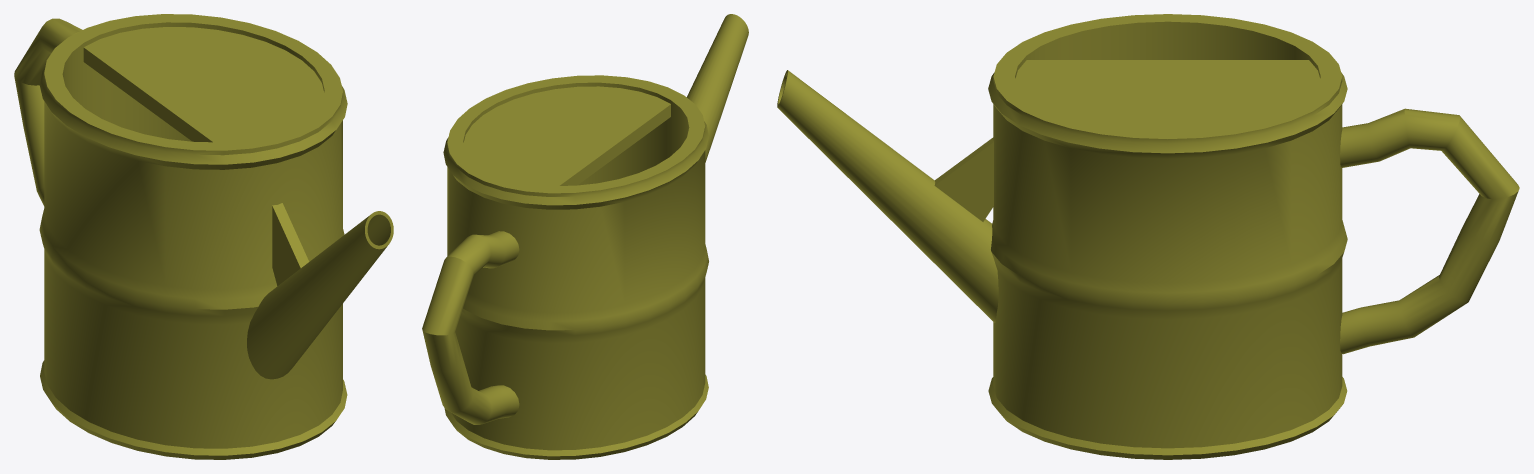
File: watering_can.fbx
3 renders of one model, left to right at view 1: azimuth 30°, elevation 25°; view 2: azimuth 150°, elevation 25°; view 3: azimuth 270°, elevation 25°, orthographic. The views are drawn at different scales.
Visible parts, largest first — view 1: Cylinder.001; view 2: Cylinder.001; view 3: Cylinder.001.
Boxes of the visible parts, x1,y1,x2,y2 form: Cylinder.001: (14,14,393,459); Cylinder.001: (422,14,748,459); Cylinder.001: (777,14,1519,459).
Bounding box in the file's own units: 175 × 206 × 426.
